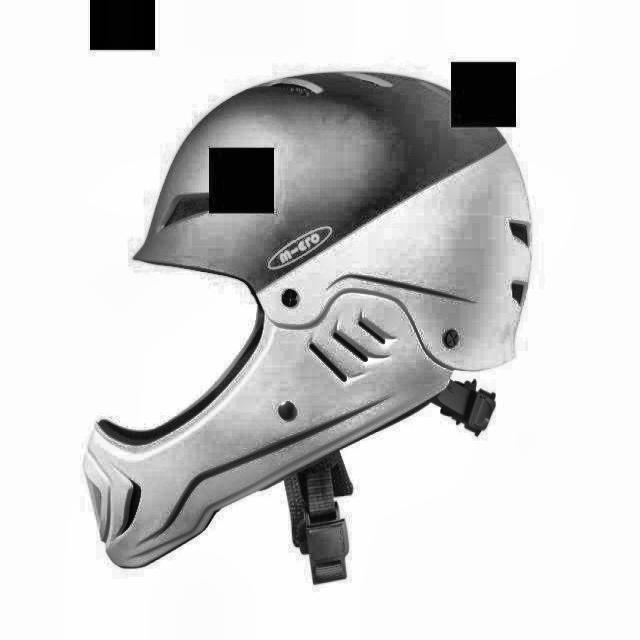Helmet: (74, 59, 566, 595)
